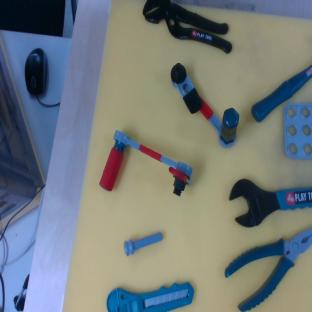non_pass: (158, 58, 251, 149)
pass: (98, 130, 200, 210)
